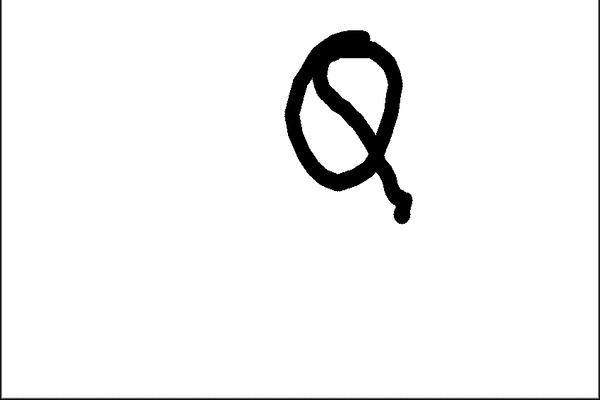Q: (261, 19, 418, 231)
